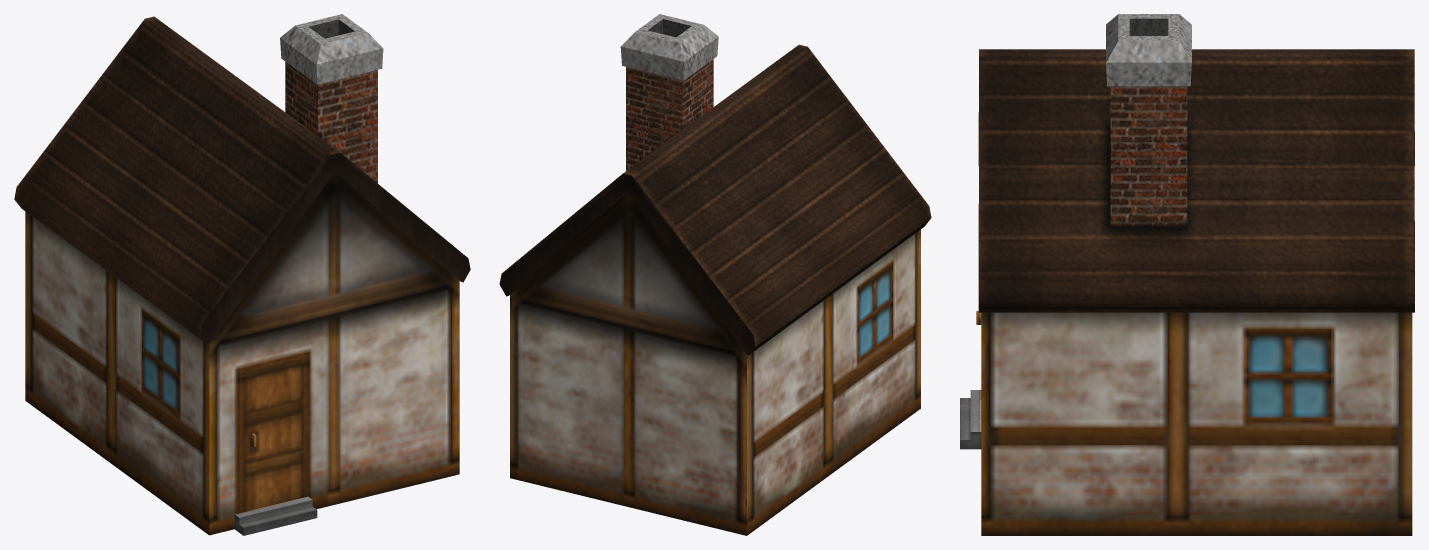
The model's file is house_seleb.fbx.
The picture shows the model from 3 angles, left to right: view 1: azimuth 30°, elevation 25°; view 2: azimuth 150°, elevation 25°; view 3: azimuth 270°, elevation 25°; orthographic projection. The views are drawn at different scales.
Parts seen in each view (by area): view 1: seleb; view 2: seleb; view 3: seleb.
Boxes of the visible parts, left/top/right/bottom form: seleb: left=14, top=14, right=470, bottom=535; seleb: left=499, top=14, right=931, bottom=535; seleb: left=960, top=14, right=1414, bottom=535.
Bounding box in the file's own units: 0.3582 × 0.5151 × 0.4457.
